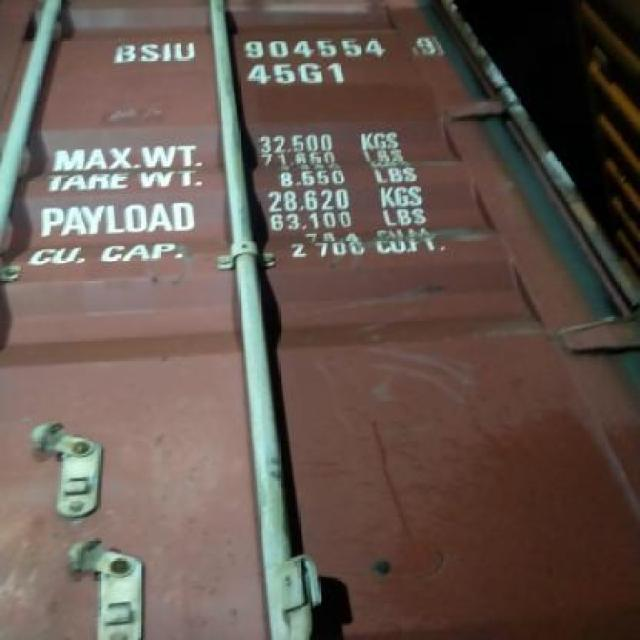ISO: (243, 55, 354, 84)
container_number: (110, 28, 457, 63)
